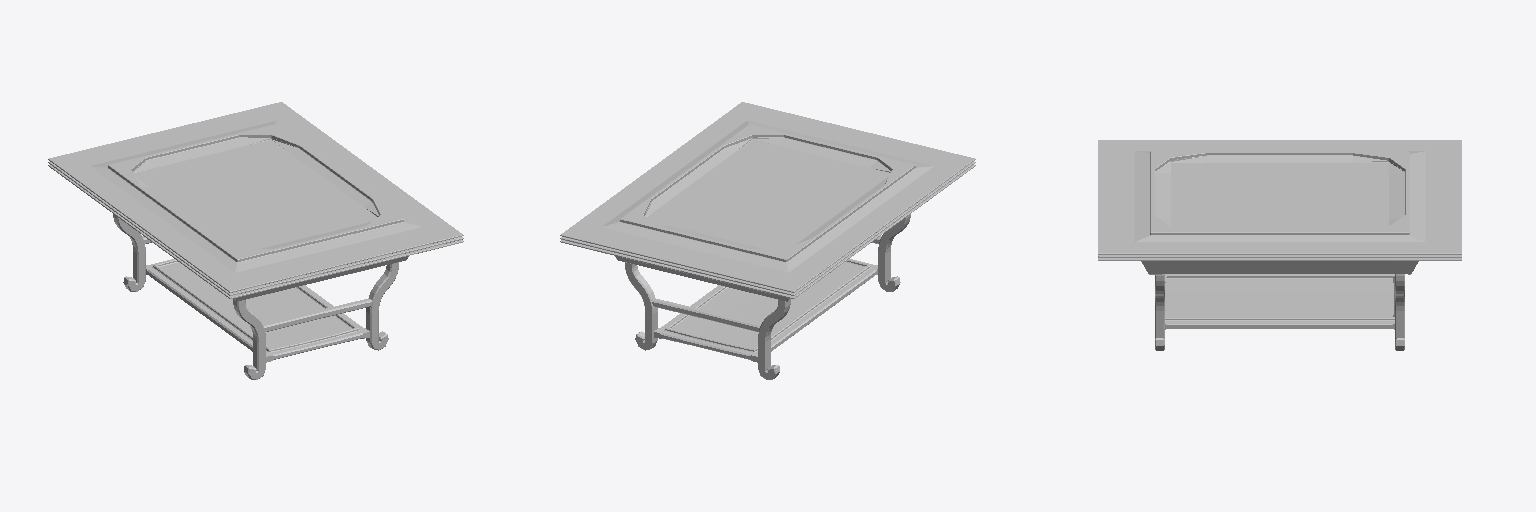
The model's file is game-table.obj.
3 renders of one model, left to right at view 1: azimuth 30°, elevation 25°; view 2: azimuth 150°, elevation 25°; view 3: azimuth 270°, elevation 25°, orthographic.
Parts seen in each view (by area): view 1: pCube66; view 2: pCube66; view 3: pCube66.
Part boxes in pixels (x1,y1,x2,y2): pCube66: (48, 102, 463, 379); pCube66: (560, 102, 975, 379); pCube66: (1098, 140, 1461, 350).
Bounding box in the file's own units: 2.73 × 1.43 × 3.67.